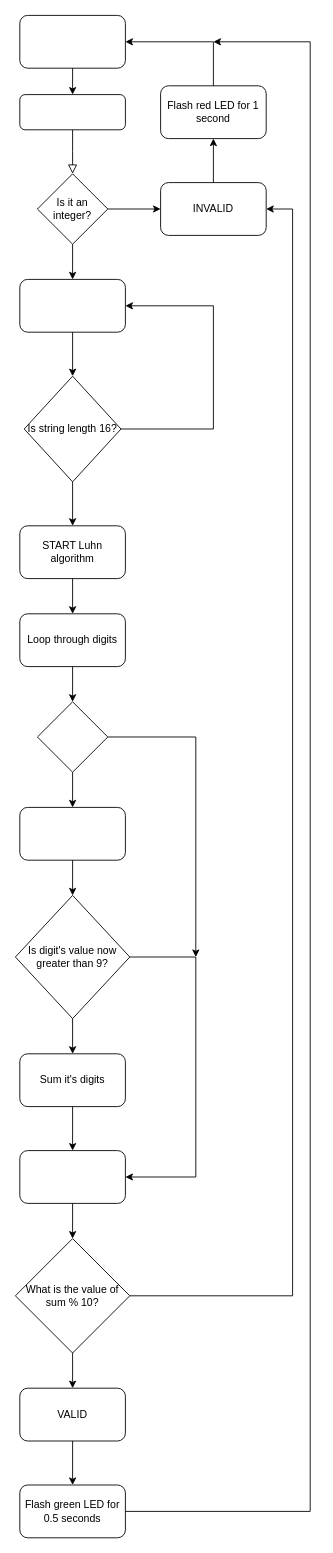
The diagram is 333 pixels wide and 1553 high, and some of its shapes have lost their labels. The box of each missing label's shape, as (x1, y1, x2, y2) in pixels:
Add digit to digit sum: (19, 1150, 125, 1203)
Add to string: (19, 279, 125, 332)
Input from board: (19, 94, 125, 130)
Is i value even?: (37, 701, 108, 772)
Multiply digit by 2: (19, 807, 125, 860)
START: (19, 15, 125, 68)
